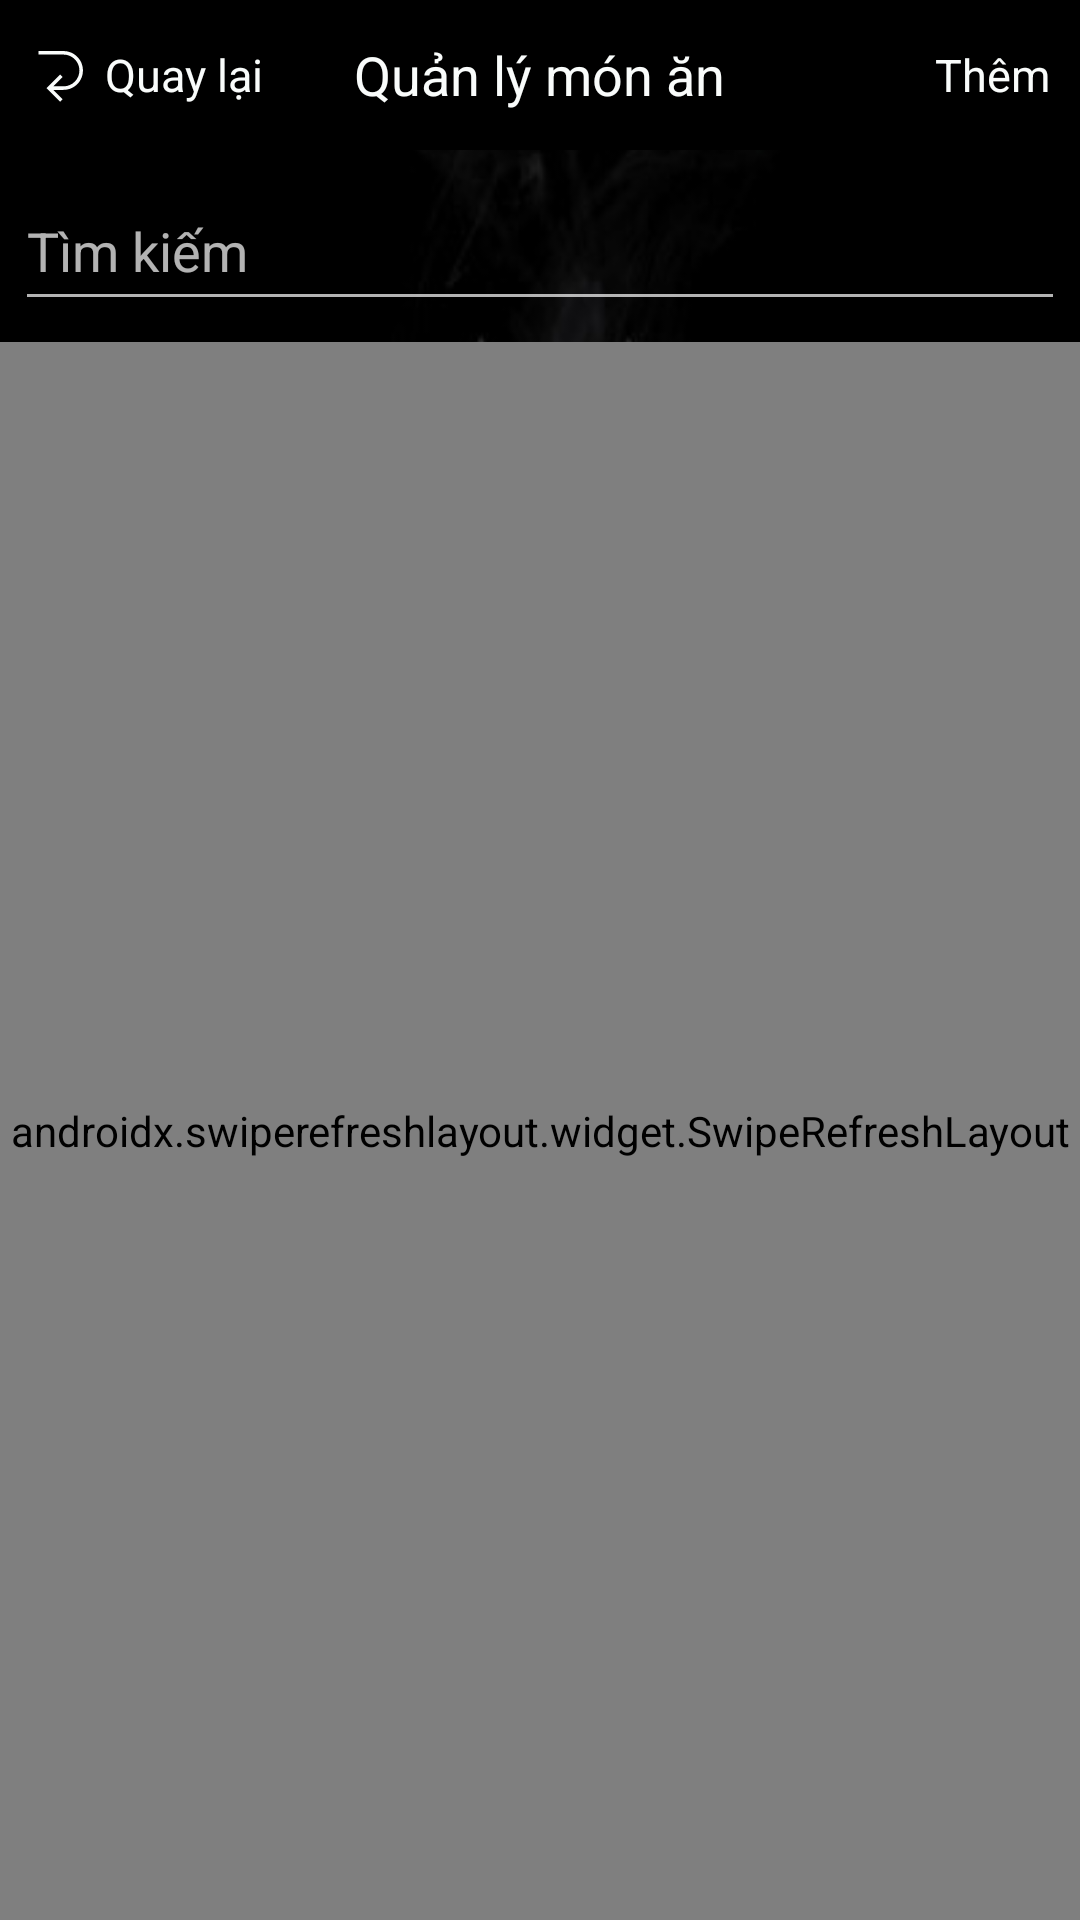

Screen size 1080 × 1920. Icon name, then its center in pixels as point (x, y):
back left: point (60, 76)
